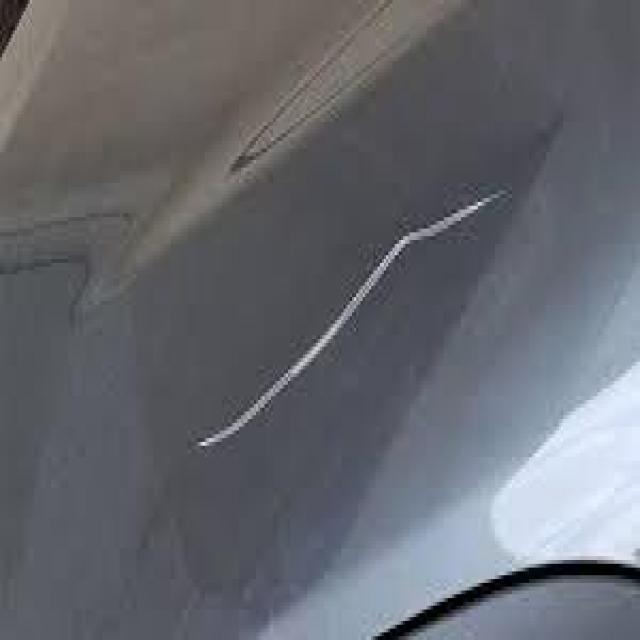scratch: (176, 171, 511, 461)
